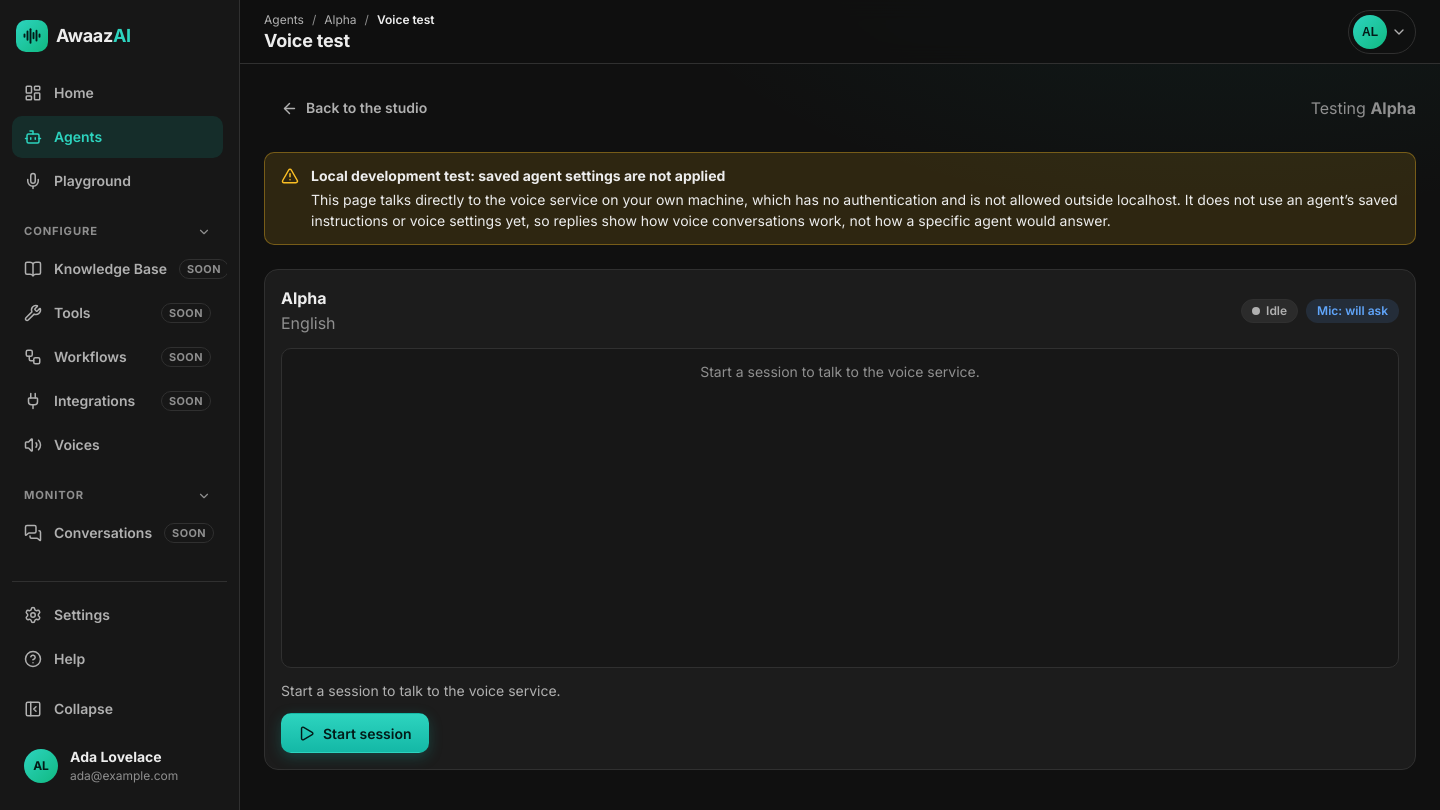
it: transcript › records a typed turn with the typed text, and notes when speech failed part-way
The width and height of the screenshot is (1440, 810).
Click the button "Start session" at (355, 733), box [281,713,428,753]
(page scrolled)
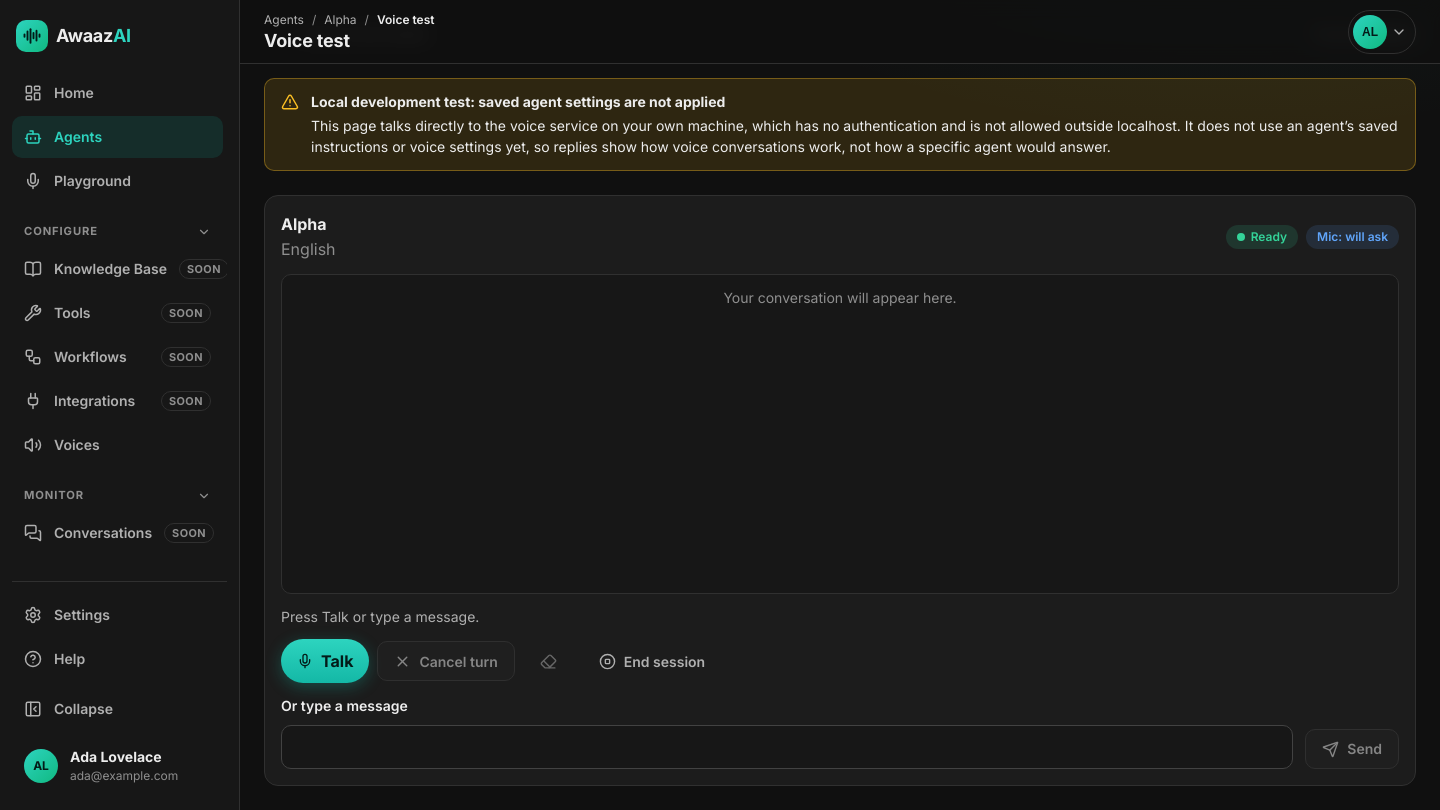
Type "hi" into the field labelled "Or type a message" at (787, 747), box [281,725,1293,769]
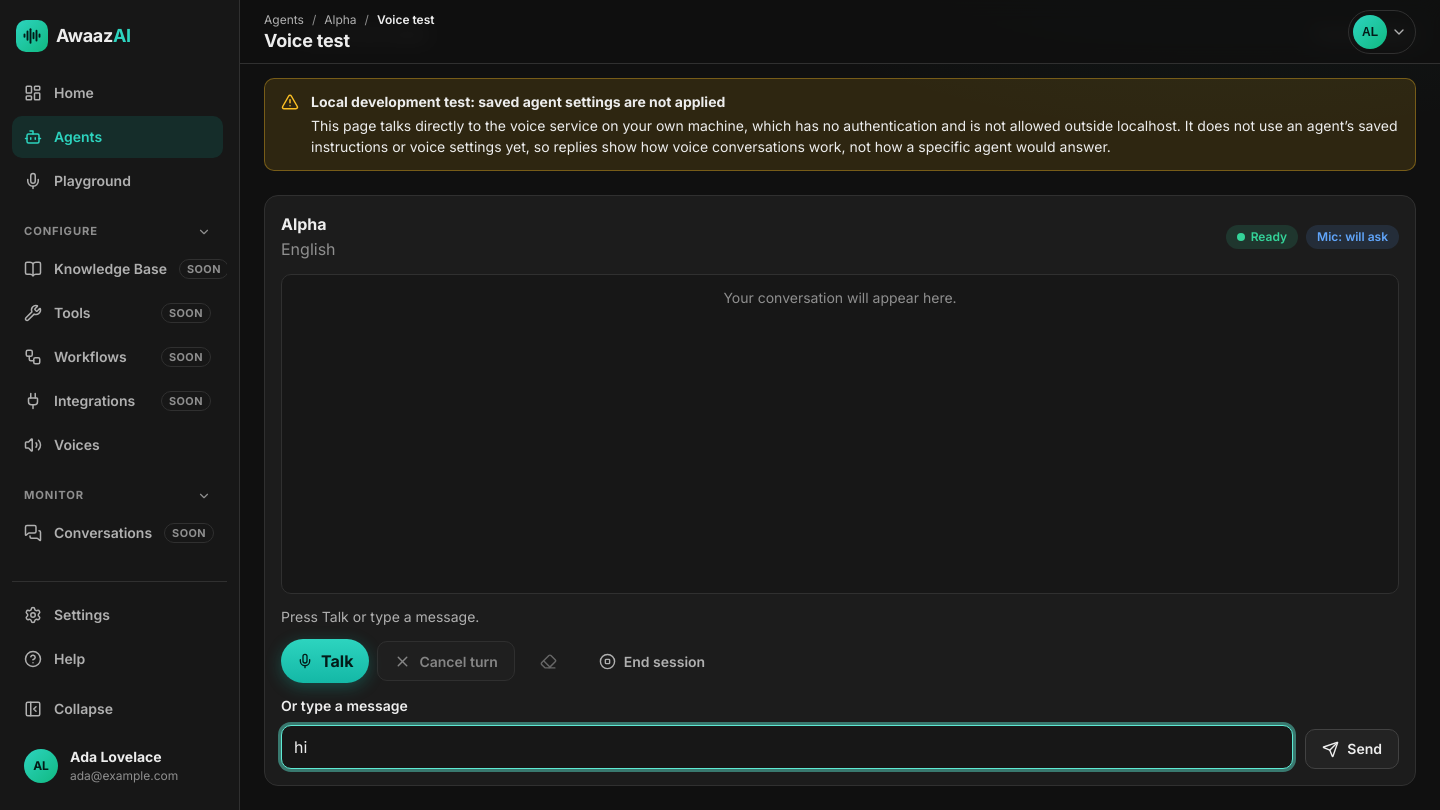
Click the button "Send" at (1352, 749), box [1305,729,1399,769]
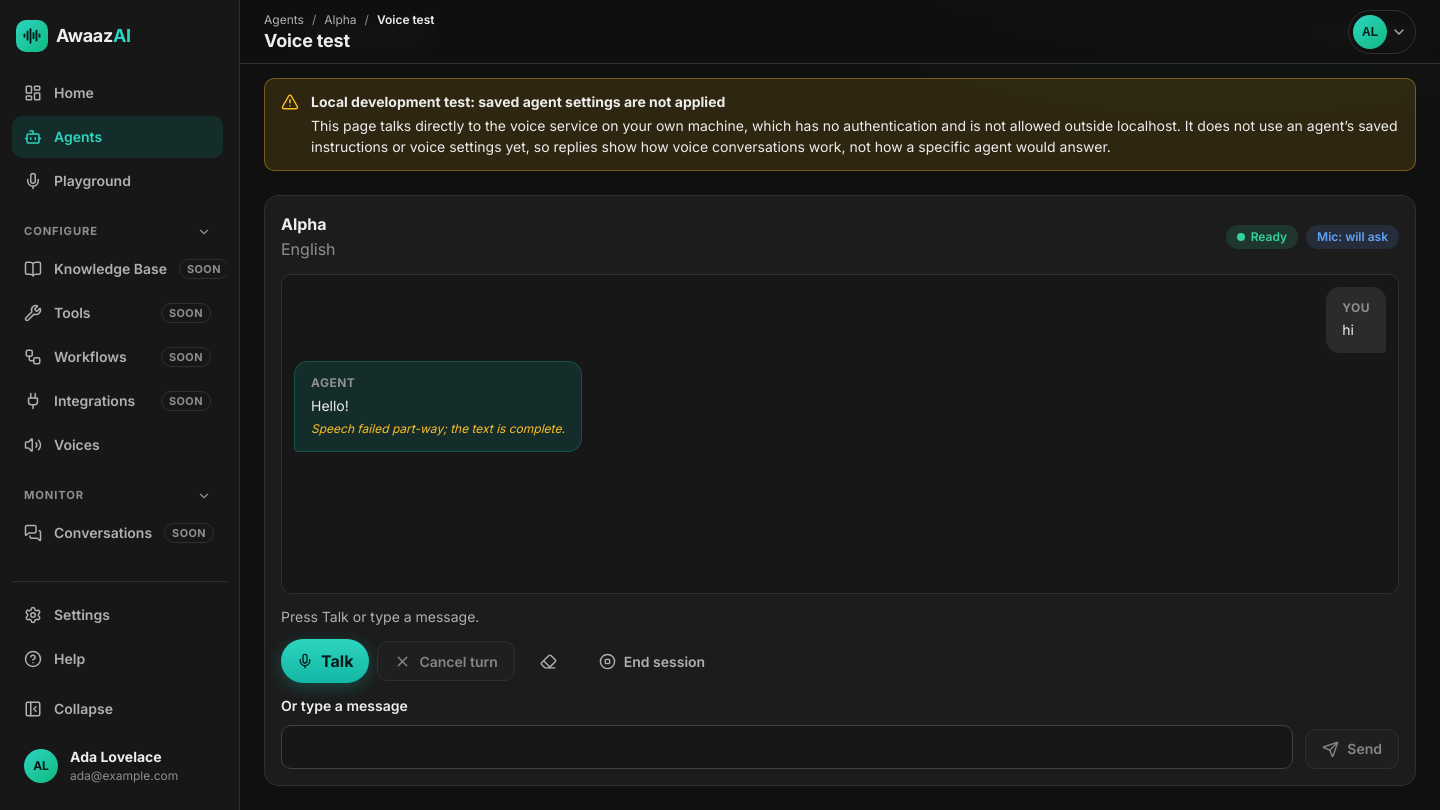
Now the text "hi" is shown, box [1342,321,1354,338]
Now the text "Hello!" is shown, box [311,396,349,414]
Now the text "Speech failed part-way; the text is complete." is shown, box [311,420,565,439]
